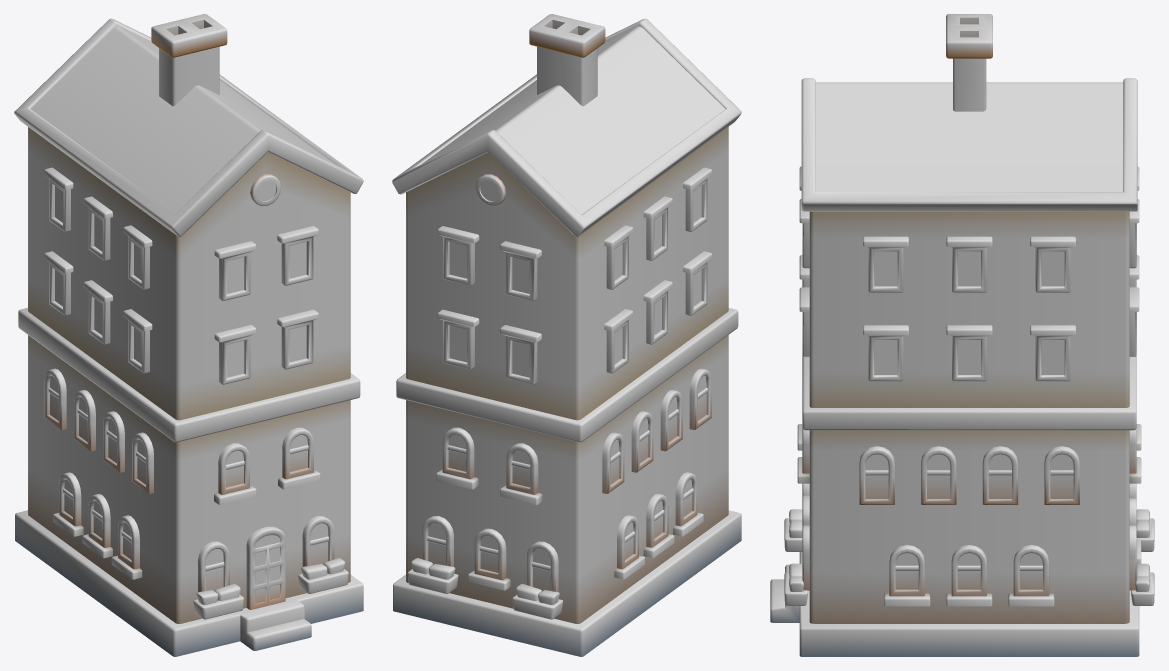
The model's file is NF_Bld_Apartment 36.fbx.
3 views of the same model, side by side, from view 1: azimuth 30°, elevation 25°; view 2: azimuth 150°, elevation 25°; view 3: azimuth 270°, elevation 25° (orthographic). The views are drawn at different scales.
Visible parts, largest first — view 1: Apart_36; view 2: Apart_36; view 3: Apart_36.
Boxes of the visible parts, x1,y1,x2,y2 form: Apart_36: [14, 14, 363, 656]; Apart_36: [392, 14, 741, 656]; Apart_36: [770, 14, 1154, 656].
Size of the model in its own units: 6.66 by 18.01 by 10.8.
